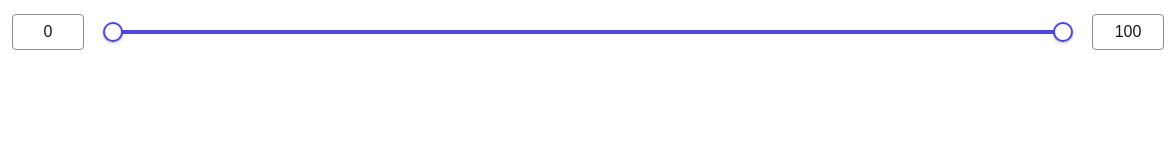
it: RangeContainer › updates live during a drag and writes the URL once on pointerup
Press the mouse on the slider named "Minimum value" at (113, 32), box [103,22,123,42]
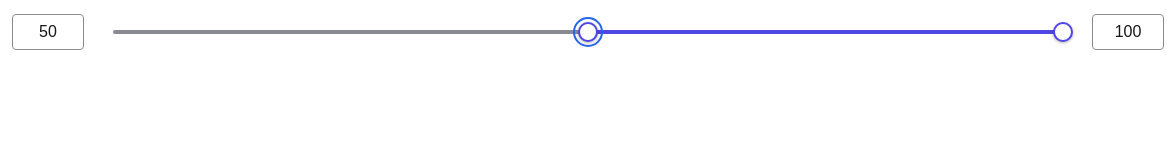
Expected: the 1st field named "Minimum value" holds "50", [12,14,84,50]
